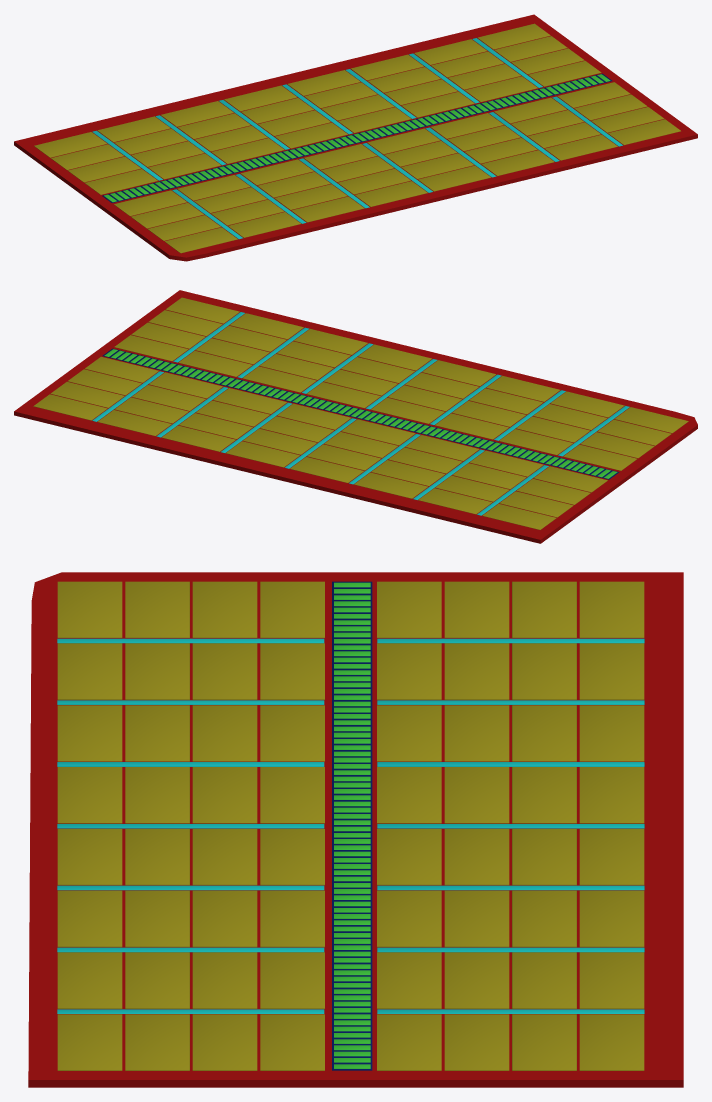
File: floor 1st small room.FBX
3 renders of one model, top to bottom at view 1: azimuth 30°, elevation 25°; view 2: azimuth 150°, elevation 25°; view 3: azimuth 270°, elevation 25°, orthographic. The views are drawn at different scales.
Visible parts, largest first — view 1: floor 1st small room; view 2: floor 1st small room; view 3: floor 1st small room.
Boxes of the visible parts, x1=… form: floor 1st small room: x1=14, y1=14, x2=697, y2=261; floor 1st small room: x1=14, y1=290, x2=697, y2=543; floor 1st small room: x1=28, y1=572, x2=683, y2=1087.
Bounding box in the file's own units: 8444 × 65.71 × 4604.
